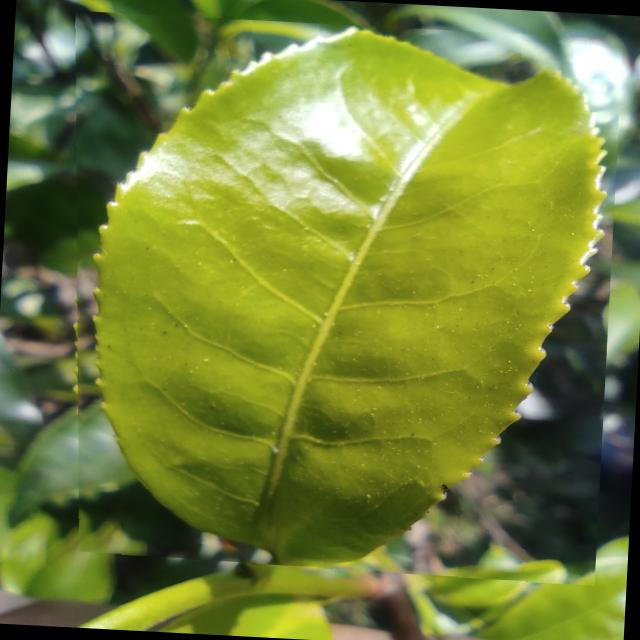Category C(4-7 days): (46, 11, 623, 586)
